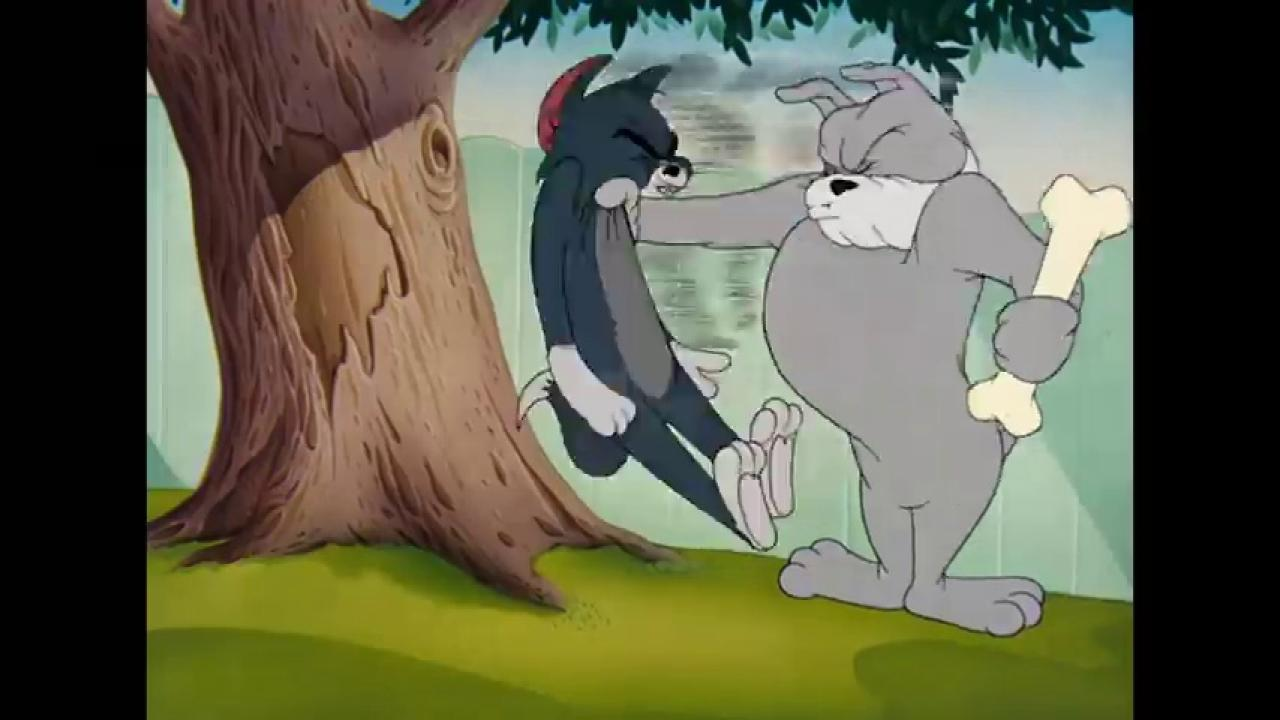Tom: (512, 49, 802, 551)
